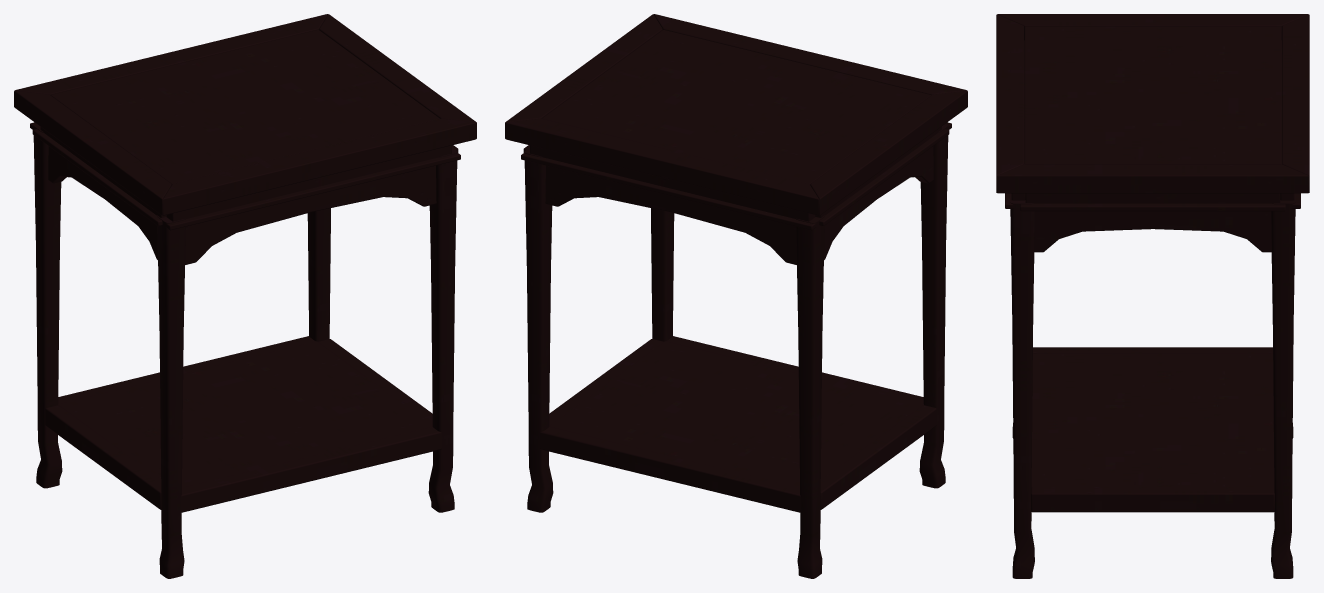
The model's file is gpt-xiaochaji-v1.glb.
The picture shows the model from 3 angles, left to right: view 1: azimuth 30°, elevation 25°; view 2: azimuth 150°, elevation 25°; view 3: azimuth 270°, elevation 25°; orthographic projection. The views are drawn at different scales.
Parts seen in each view (by area): view 1: 13_小茶几; view 2: 13_小茶几; view 3: 13_小茶几.
Part boxes in pixels (bbox=[...]): 13_小茶几: bbox=[14, 14, 476, 578]; 13_小茶几: bbox=[505, 14, 967, 578]; 13_小茶几: bbox=[996, 14, 1309, 578].
Size of the model in its own units: 0.55 by 0.65 by 0.45.
Materials: 1 (1 with a texture image).
